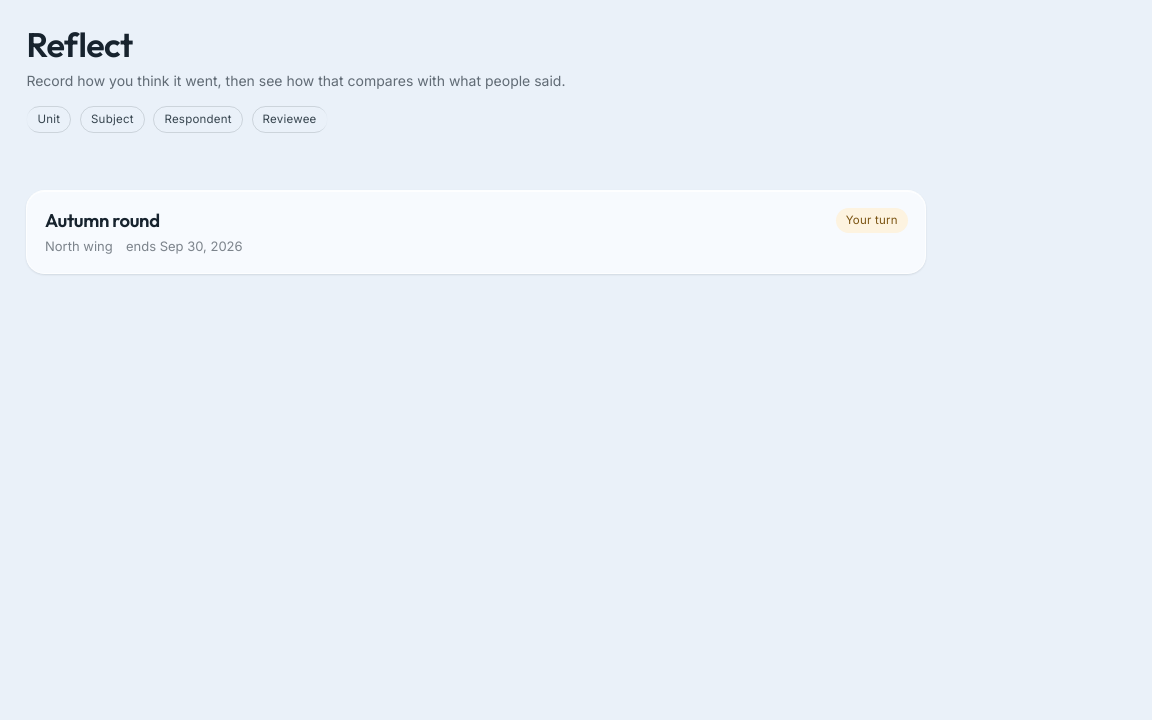
Scenario: /app/reflect › lists cycles with a status, and opens one
The image size is (1152, 720).
Expected: the text "Your turn" is shown, [836,208,908,233]
Click the button "Autumn round" at (102, 220), box [45,209,822,232]
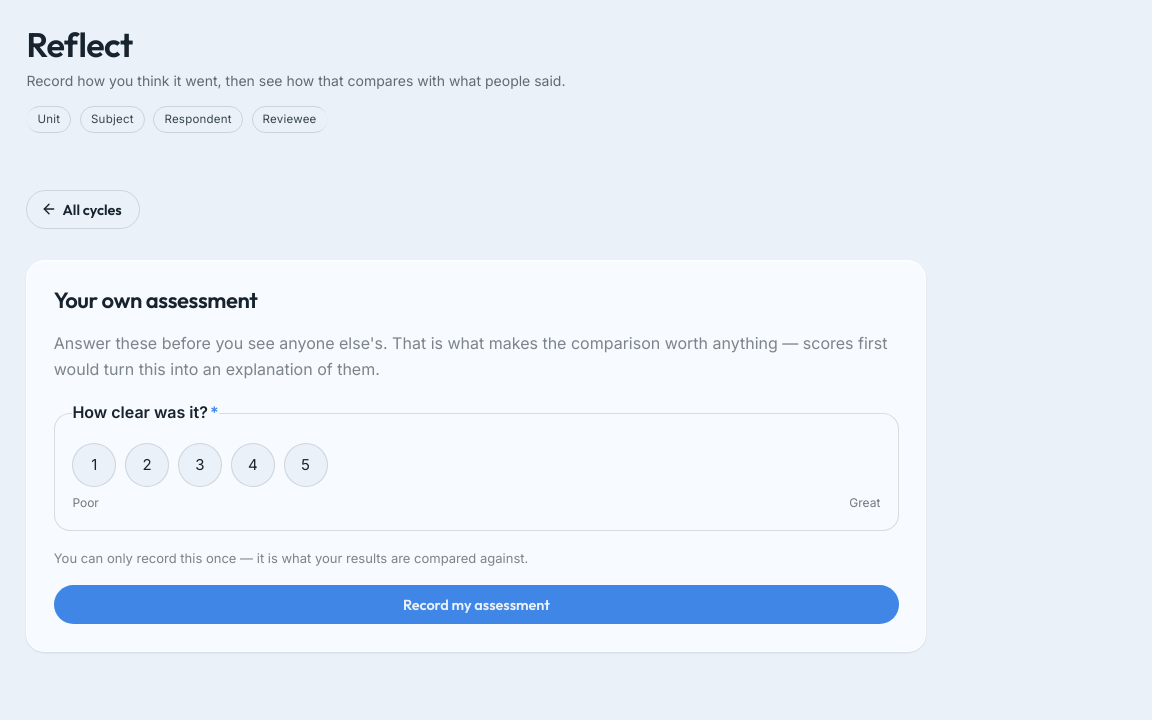
Now the heading "Your own assessment" is shown, box [54,286,258,314]
